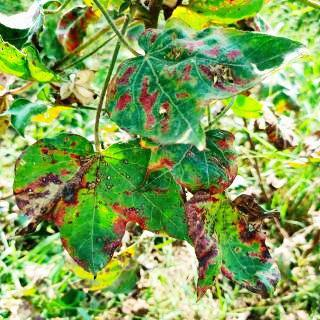blight: (5, 129, 205, 280), (96, 20, 305, 162), (171, 179, 306, 301)
